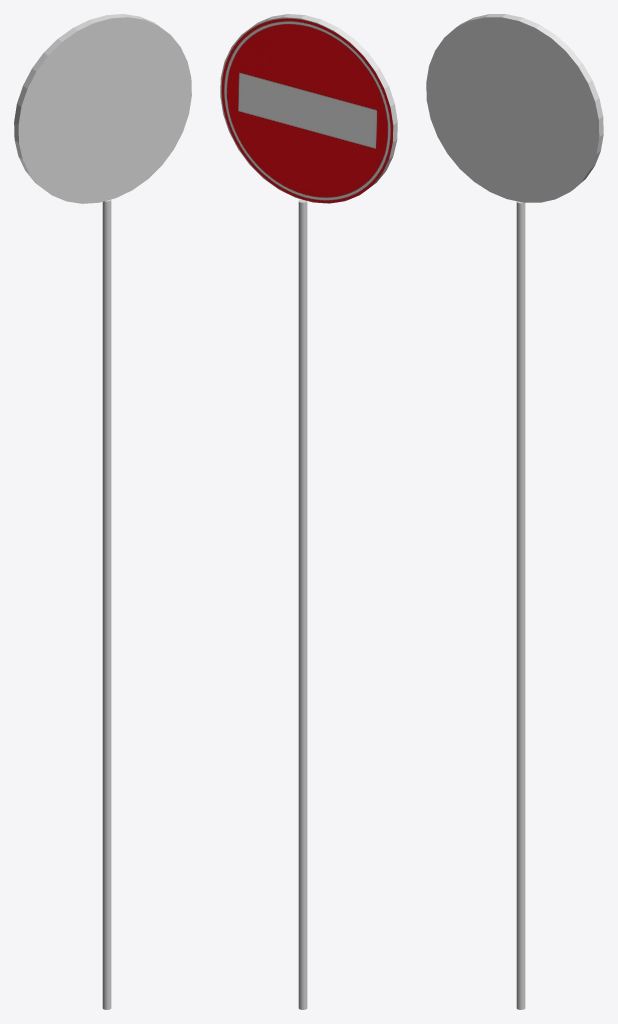
Rendered from tabela.dae.
3 renders of one model, left to right at view 1: azimuth 30°, elevation 25°; view 2: azimuth 150°, elevation 25°; view 3: azimuth 330°, elevation 25°, orthographic.
Visible parts, largest first — view 1: Cylinder_001, Cylinder; view 2: Cylinder_001, Cylinder; view 3: Cylinder_001, Cylinder.
Boxes of the visible parts, x1,y1,x2,y2 form: Cylinder_001: (14,14,191,203); Cylinder: (102,199,111,1009); Cylinder_001: (220,14,397,203); Cylinder: (298,199,307,1009); Cylinder_001: (426,14,603,202); Cylinder: (516,201,525,1009).
Bounding box in the file's own units: 0.4489 × 0.0244 × 2.45.
Materials: 1 (1 with a texture image).
